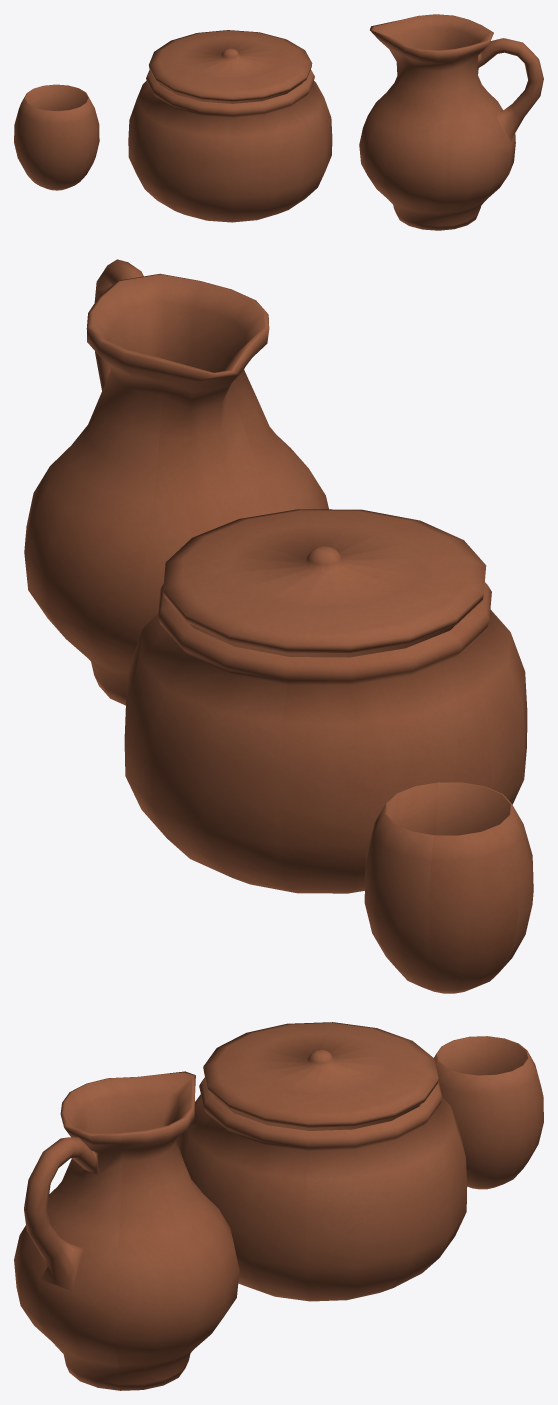
The model's file is Ollas,2.fbx.
3 views of the same model, one above another, from view 1: azimuth 30°, elevation 25°; view 2: azimuth 150°, elevation 25°; view 3: azimuth 270°, elevation 25° (orthographic). The views are drawn at different scales.
Visible parts, largest first — view 1: Ollas.002; view 2: Ollas.002; view 3: Ollas.002.
Part boxes in pixels (box(x1,y1,x2,y2)): Ollas.002: box(14, 14, 543, 230); Ollas.002: box(24, 259, 533, 993); Ollas.002: box(14, 1022, 543, 1390).
Size of the model in its own units: 0.7111 by 0.3338 by 0.6116.
